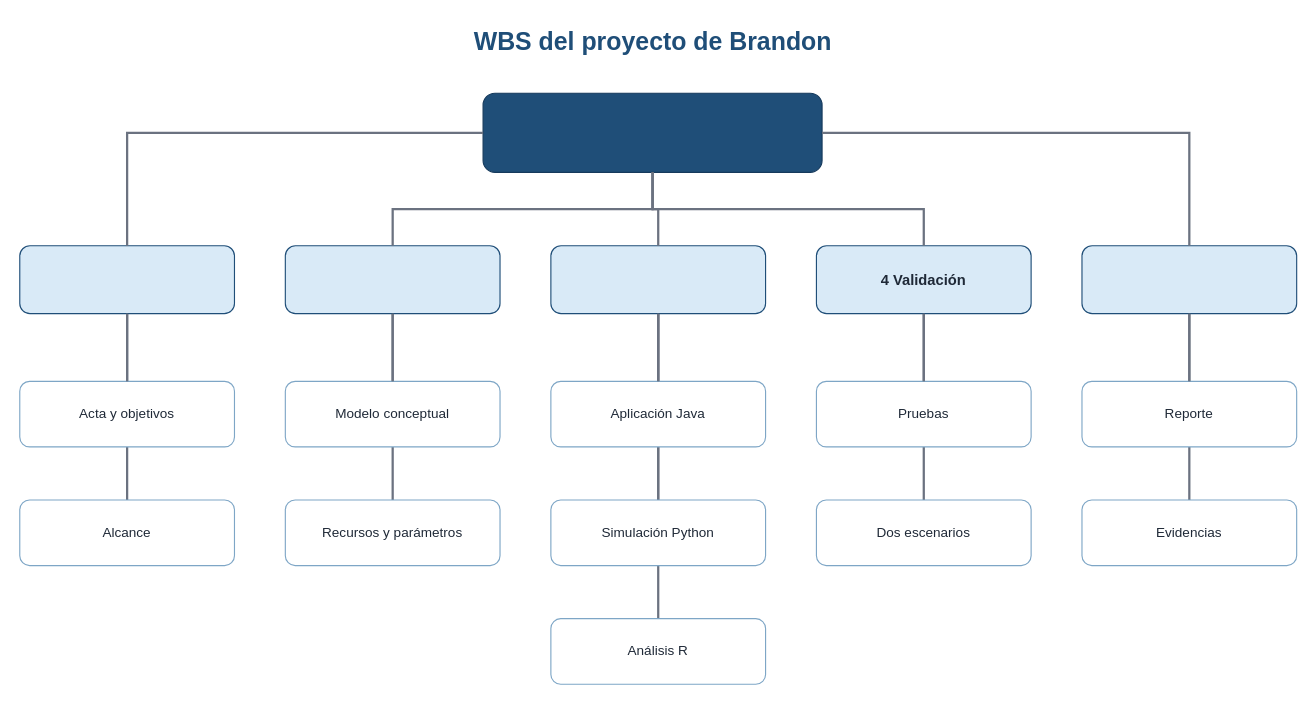
Some shapes in this 1316 by 704 pixel diagram are drawn without their labels. Each missing label, with the box of its shape:
1 Inicio: (19, 245, 234, 314)
2 Planificación: (284, 245, 500, 314)
3 Desarrollo: (550, 245, 766, 314)
5 Cierre: (1081, 245, 1297, 314)
Proyecto Brandon: (482, 92, 822, 172)
